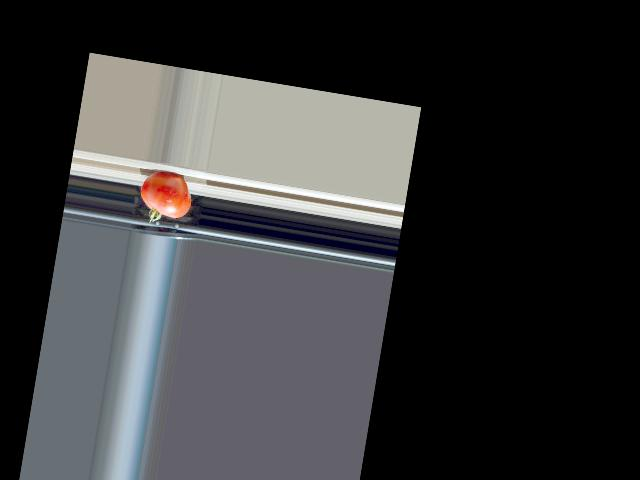tomato: (135, 169, 194, 229)
